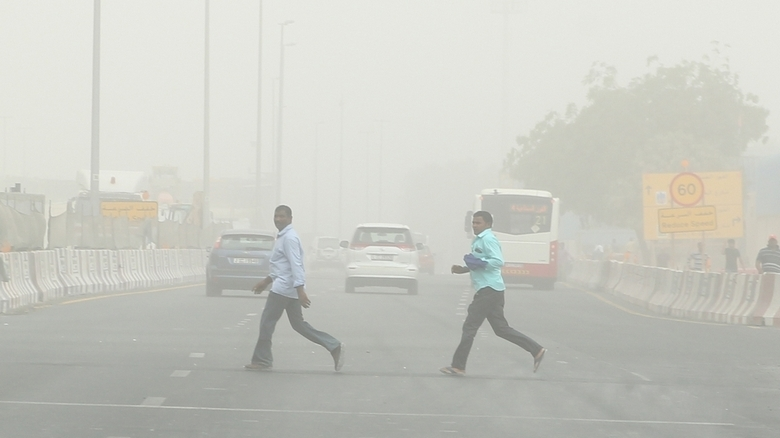bus: (470, 186, 563, 289)
car: (342, 222, 424, 294), (204, 231, 278, 295), (308, 234, 349, 270), (414, 240, 436, 273)
person: (443, 214, 549, 372), (244, 214, 342, 369), (755, 233, 778, 272), (719, 242, 744, 272), (685, 241, 709, 272)
truck: (68, 164, 194, 244)
